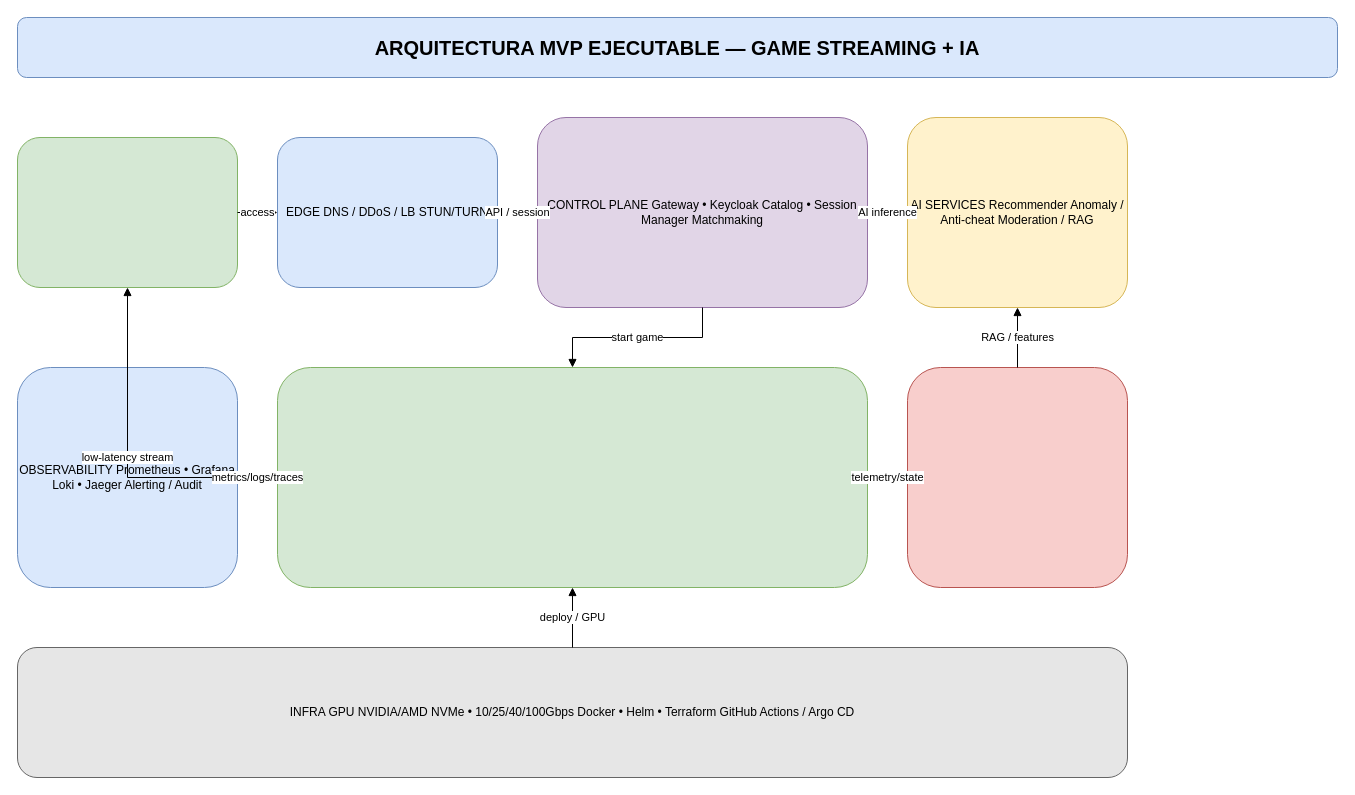
Image size: 1355x795. Some labels were removed from this diagram. Each missing label, with the centre of its shape:
"CLIENTE Web / PC / Android / iOS WebRTC + Gamepad" goes at (x=127, y=212).
"DATA PostgreSQL Redis Kafka ClickHouse MinIO / Qdrant" goes at (x=1017, y=477).
"GAME PLANE Kubernetes + GPU Game Pod + Encoder Streaming Agent WebRTC" goes at (x=572, y=477).
